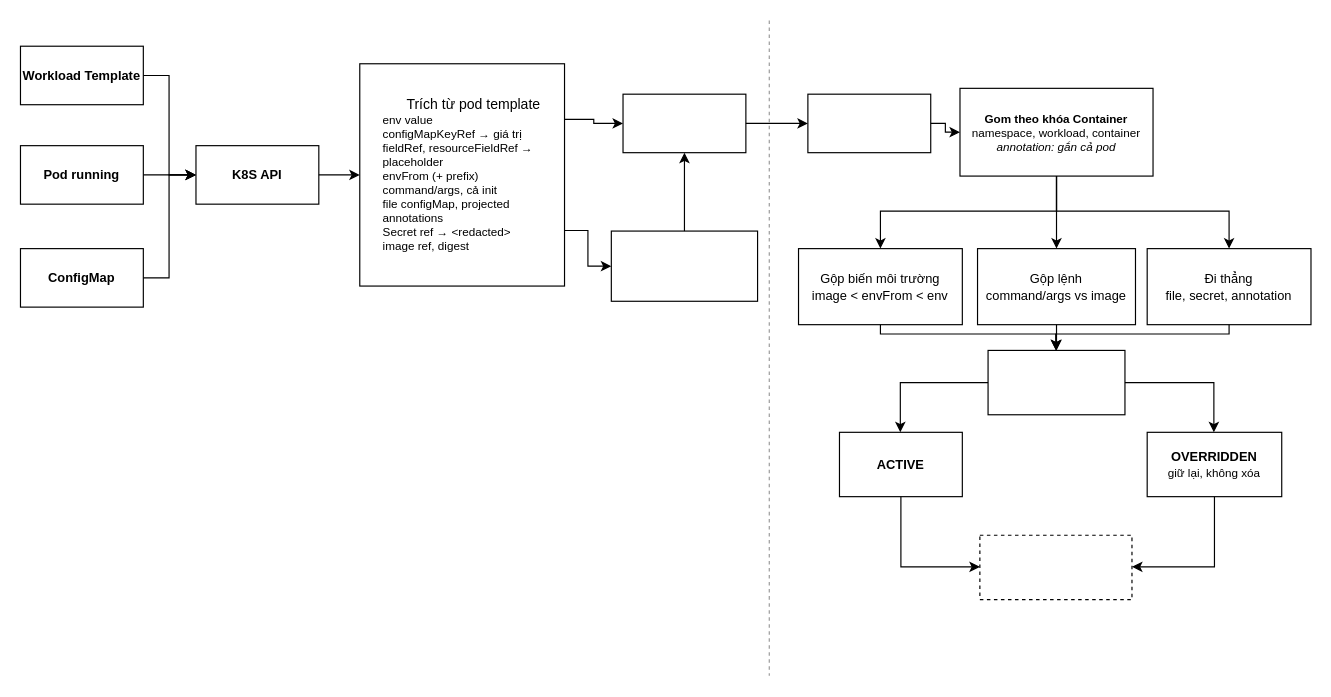
This 1331x697 diagram has some shape labels left out. Here are the shapes that lost their labels. From the top down, the centre of each, then its label:
point (684, 123): Collect
point (869, 123): RAW Item
point (684, 265): Image config tra registry theo digest ENV, ENTRYPOINT, CMD
point (1056, 382): Effective Item
point (1055, 567): Sang bước lọc (giai đoạn 3)
